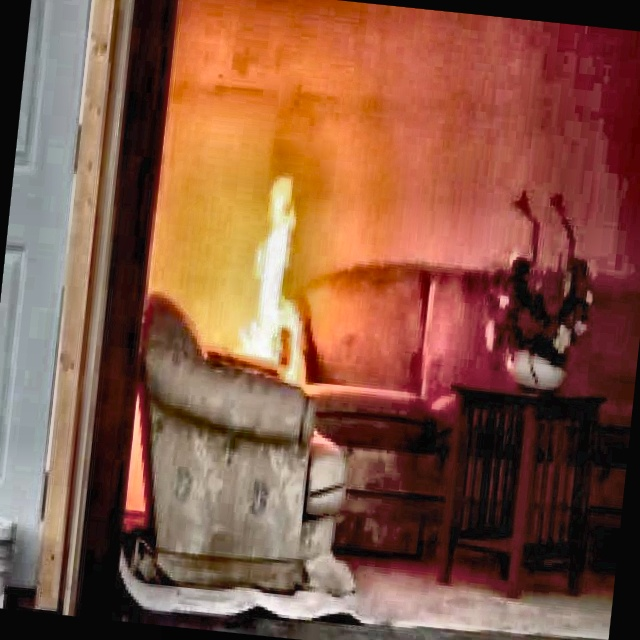fire: (228, 156, 331, 363)
